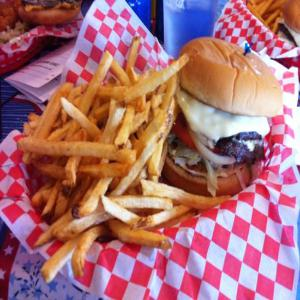cheeseburger_475cal: (176, 33, 293, 201)
fries_350cal: (16, 47, 187, 276)
